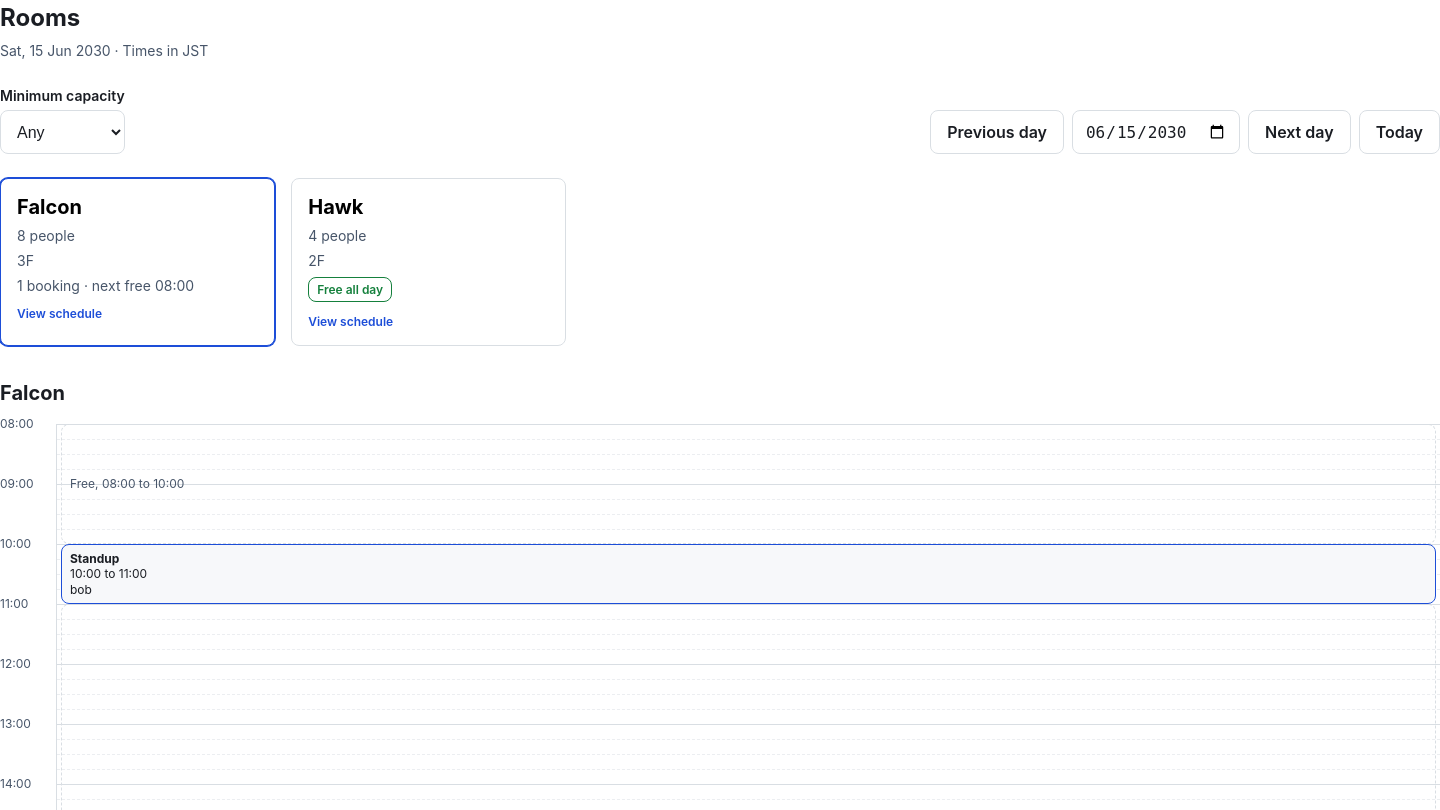
Scenario: RoomsPage › clicking a free gap prefills the booking form with that start time
Click the button with aria-label "Free, 08:00 to 10:00. Book" at (748, 484), box x1=61 y1=424 x2=1436 y2=544
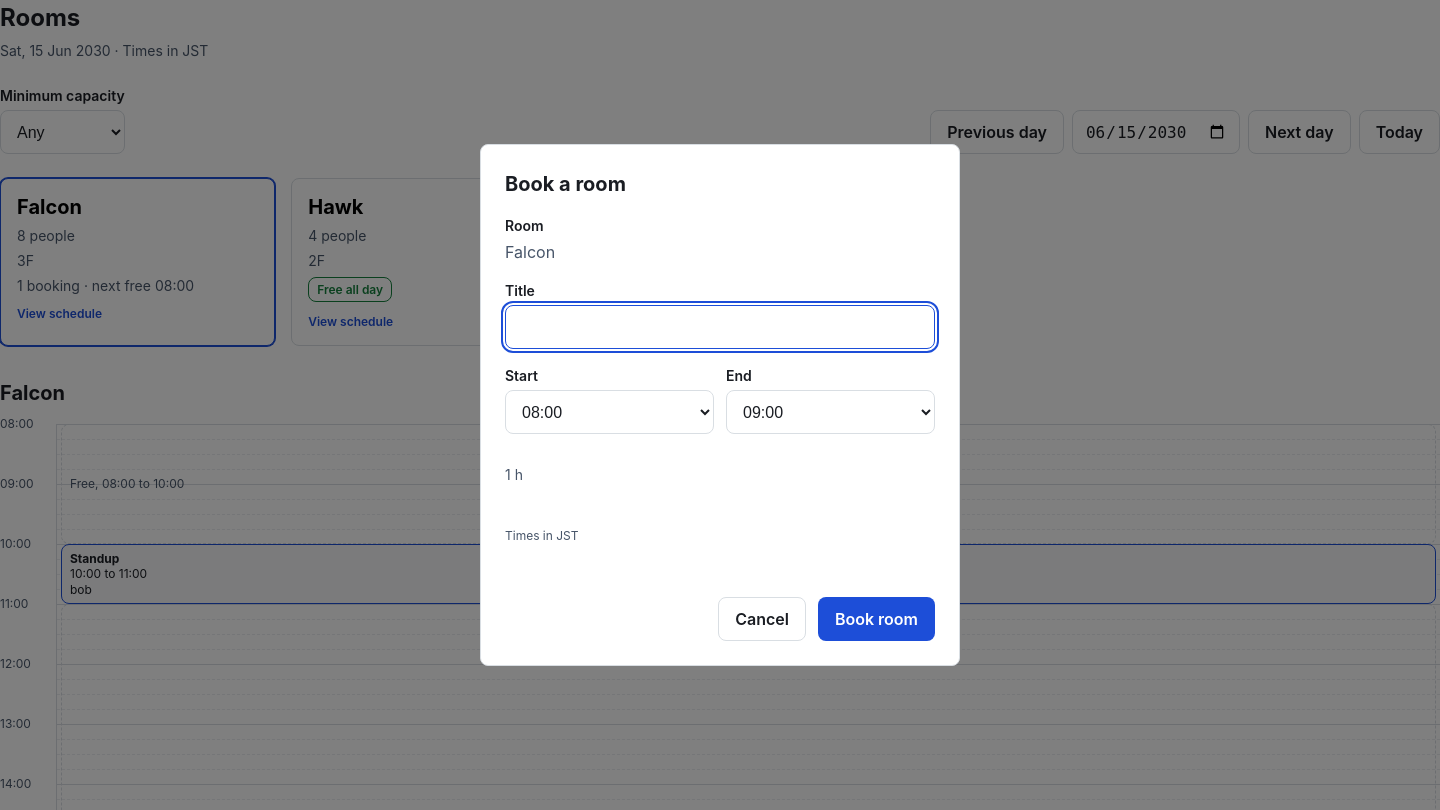
Check: the dropdown labelled "Start" shows "08:00", box x1=505 y1=390 x2=714 y2=434
Check: the dropdown labelled "End" shows "09:00", box x1=726 y1=390 x2=935 y2=434
